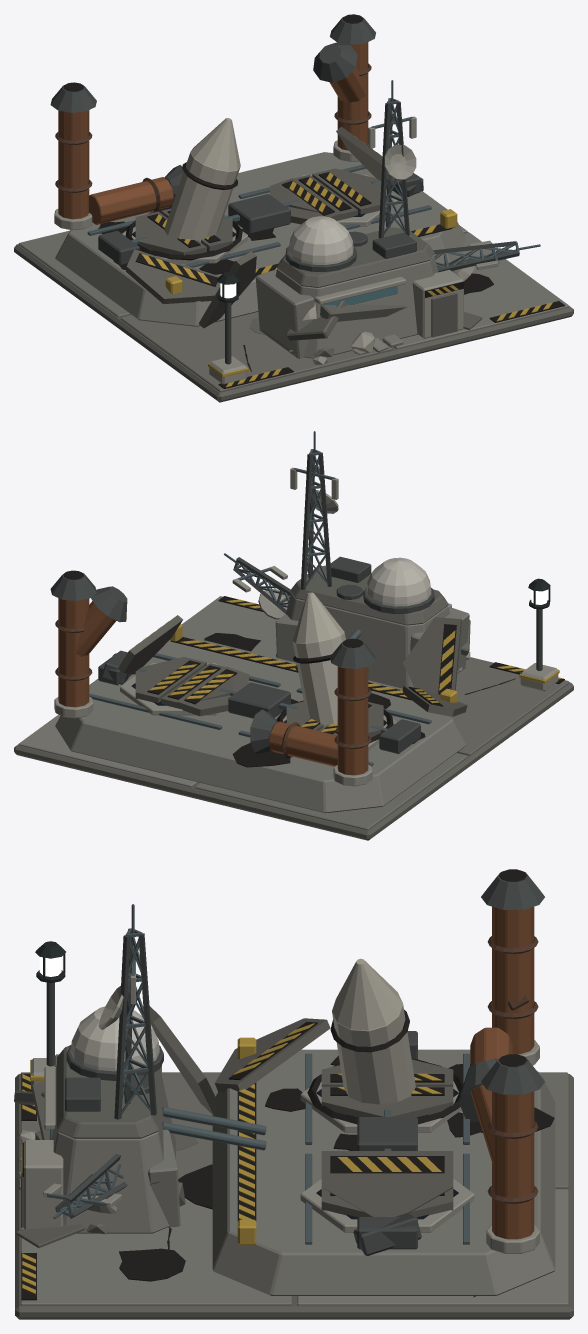
Rendered from t_silo.glb.
The picture shows the model from 3 angles, top to bottom: view 1: azimuth 30°, elevation 25°; view 2: azimuth 150°, elevation 25°; view 3: azimuth 270°, elevation 25°; orthographic projection. The views are drawn at different scales.
Visible parts, largest first — view 1: Intact structure, Site foundation, Ruined structure; view 2: Site foundation, Intact structure, Ruined structure; view 3: Site foundation, Intact structure, Ruined structure.
Boxes of the visible parts, x1=… form: Intact structure: x1=50, y1=14, x2=463, y2=358; Site foundation: x1=14, y1=152, x2=573, y2=402; Ruined structure: x1=58, y1=42, x2=540, y2=364; Site foundation: x1=14, y1=578, x2=573, y2=840; Intact structure: x1=50, y1=431, x2=462, y2=786; Ruined structure: x1=58, y1=553, x2=470, y2=774; Site foundation: x1=15, y1=941, x2=573, y2=1319; Intact structure: x1=21, y1=869, x2=544, y2=1253; Ruined structure: x1=14, y1=958, x2=554, y2=1281.
Bounding box in the file's own units: 7.8 × 4.99 × 7.81.
